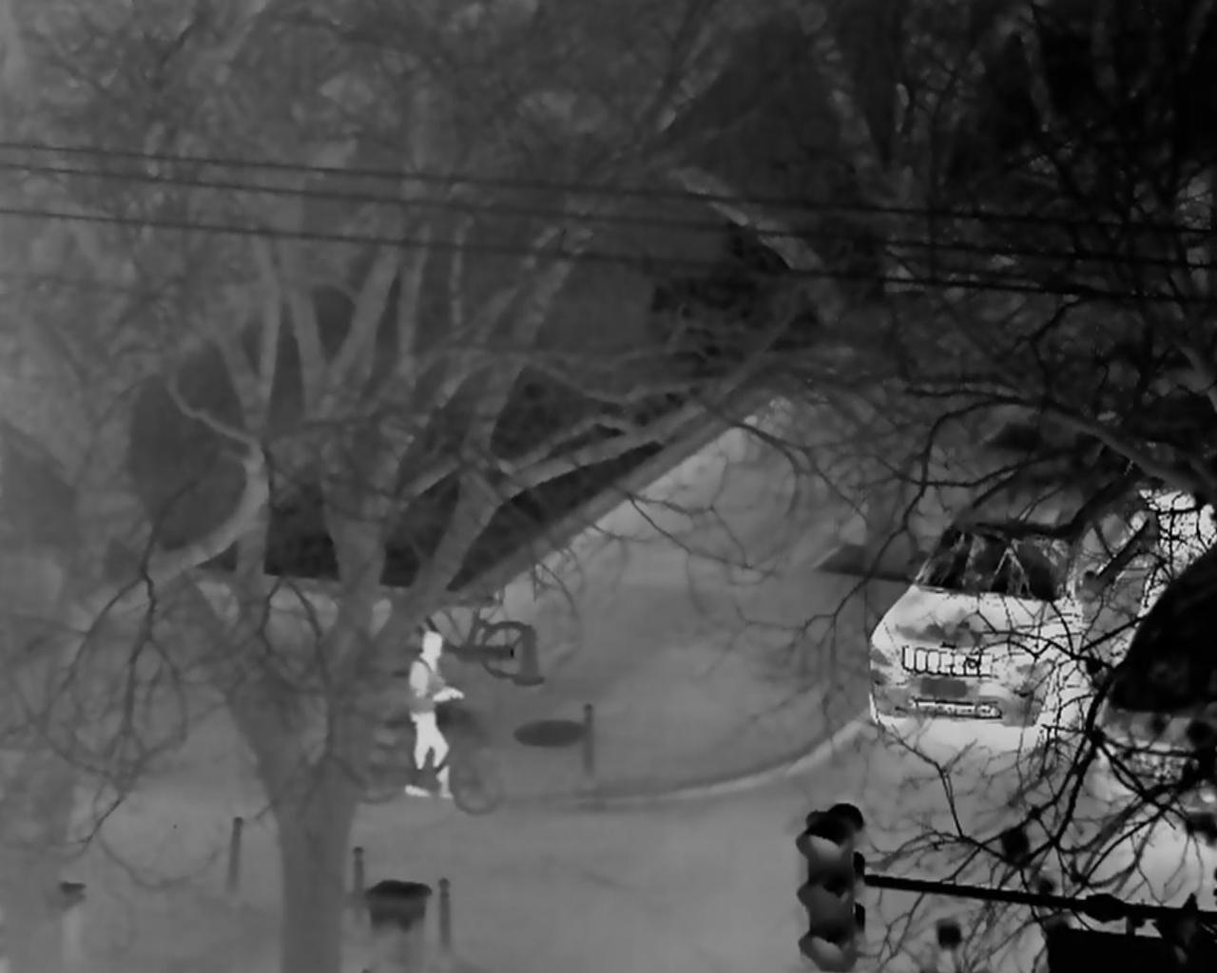person: (406, 630, 466, 799)
